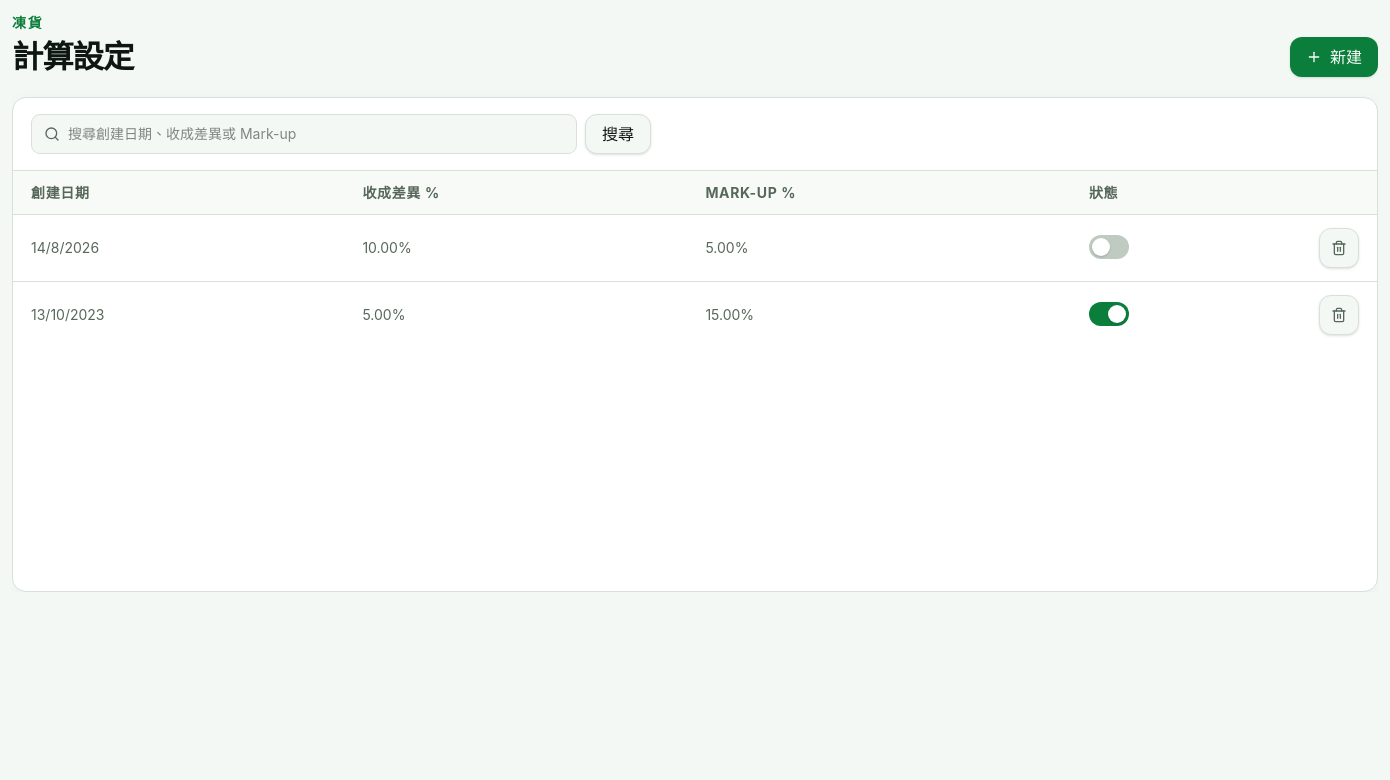
Calculation settings page › blocks turning off the last active setting
Expected: the text "15.00%" is shown, [687,281,1071,348]
Click the switch named "切換 13/10/2023 的啟用狀態": (1109, 314) [1089,302,1129,326]
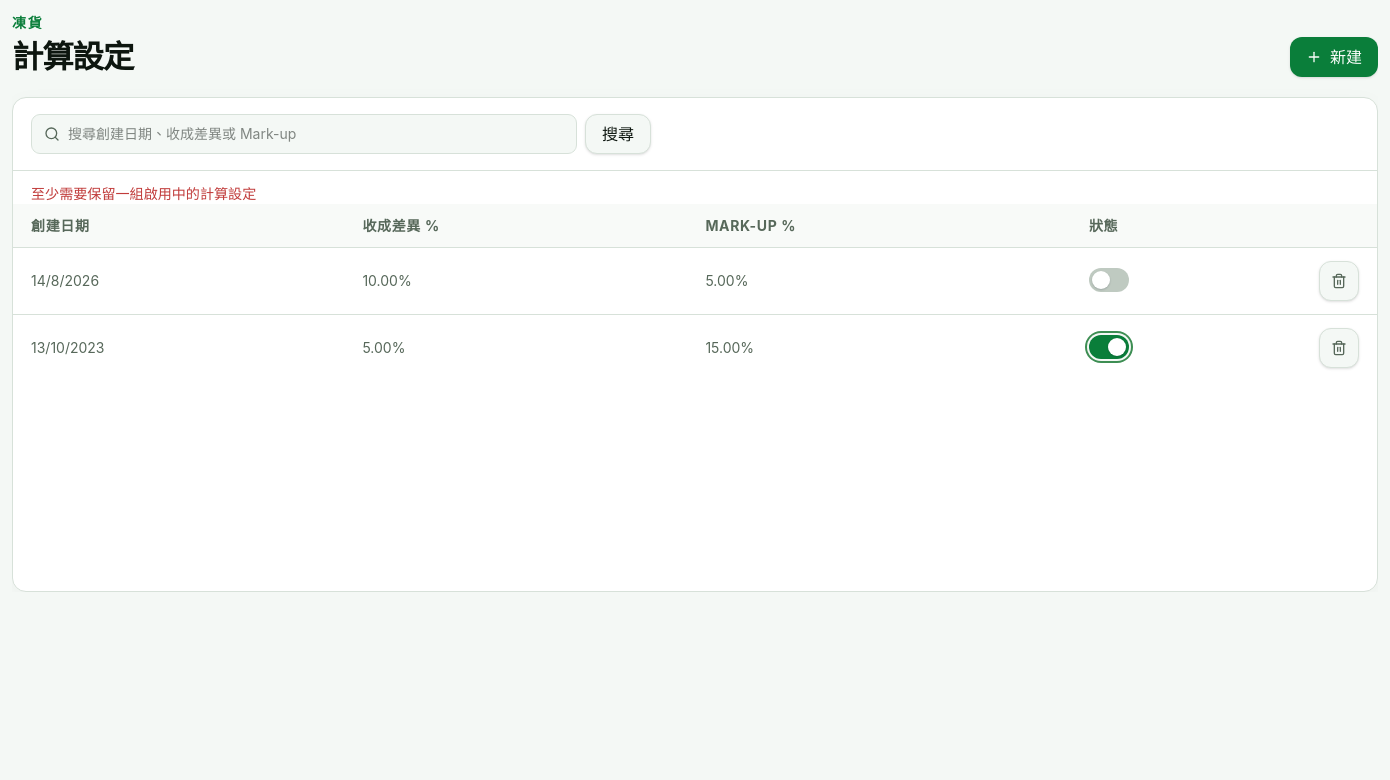
Result: the text "至少需要保留一組啟用中的計算設定" is shown at [31,185,256,202]
